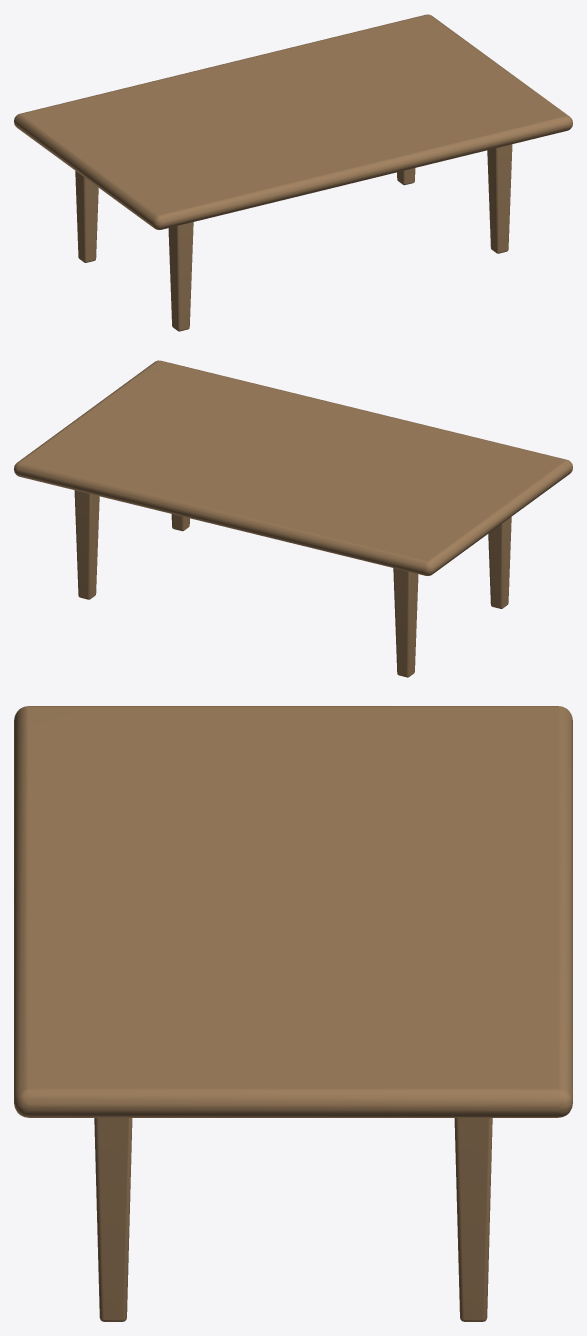
Rendered from QuietTable150.fbx.
3 renders of one model, top to bottom at view 1: azimuth 30°, elevation 25°; view 2: azimuth 150°, elevation 25°; view 3: azimuth 270°, elevation 25°, orthographic. The views are drawn at different scales.
Parts seen in each view (by area): view 1: QuietTable150; view 2: QuietTable150; view 3: QuietTable150.
Part boxes in pixels (<box>): QuietTable150: <box>14,14,572,331</box>; QuietTable150: <box>14,360,572,677</box>; QuietTable150: <box>14,706,572,1321</box>.
Bounding box in the file's own units: 1.5 × 0.48 × 0.9.
